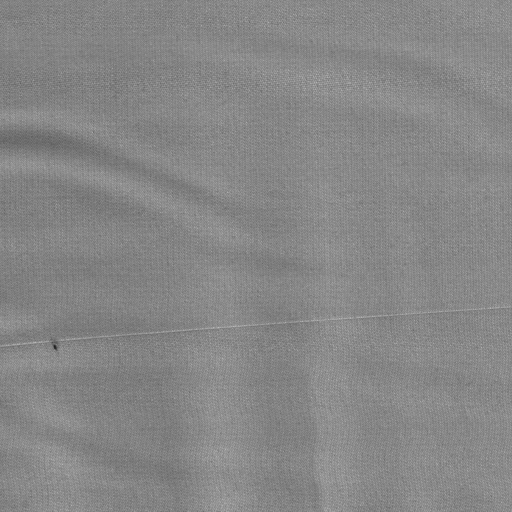defect: (1, 303, 511, 339)
